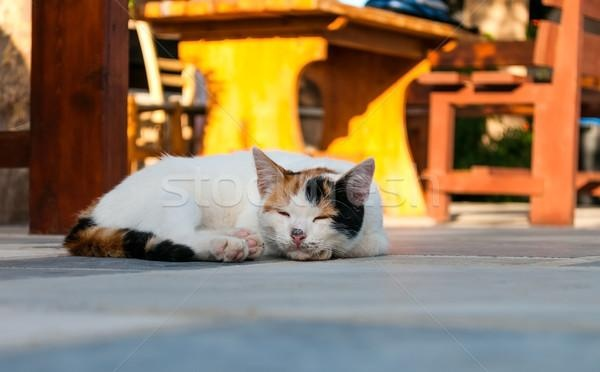cat: (63, 148, 388, 262)
